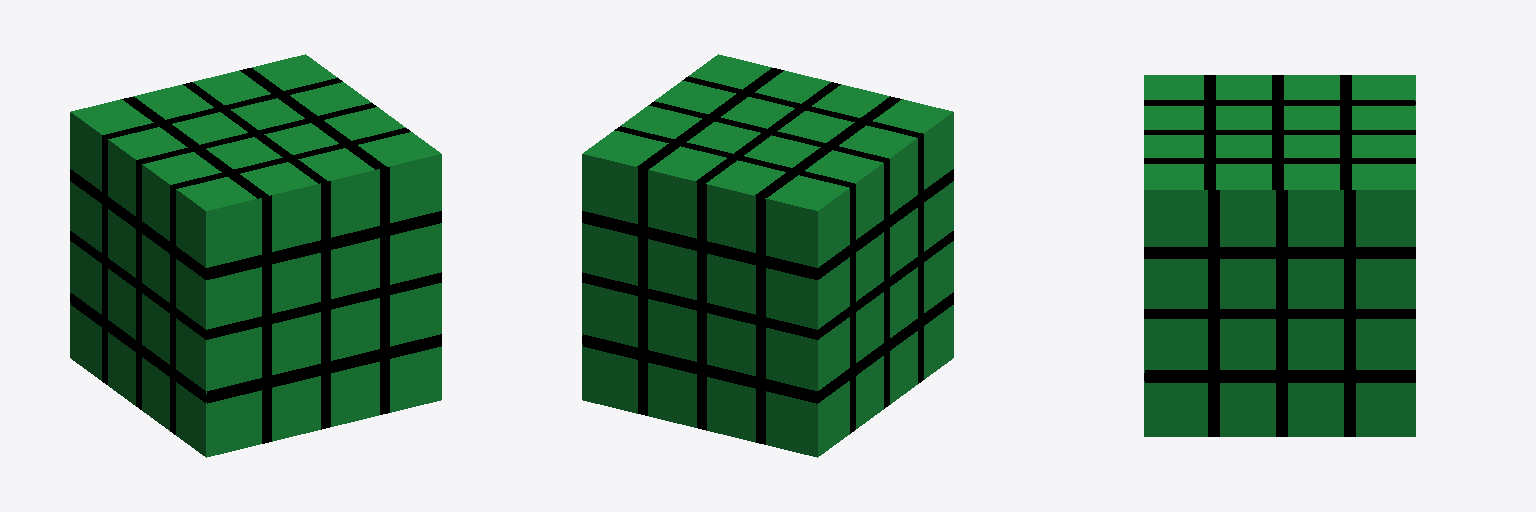
3 renders of one model, left to right at view 1: azimuth 30°, elevation 25°; view 2: azimuth 150°, elevation 25°; view 3: azimuth 270°, elevation 25°, orthographic.
Parts seen in each view (by area): view 1: Cube; view 2: Cube; view 3: Cube.
Part boxes in pixels (x1,y1,x2,y2): Cube: (70, 54, 441, 457); Cube: (582, 54, 953, 457); Cube: (1144, 75, 1415, 436).
Bounding box in the file's own units: 2 × 2 × 2.
Materials: 1 (1 with a texture image).